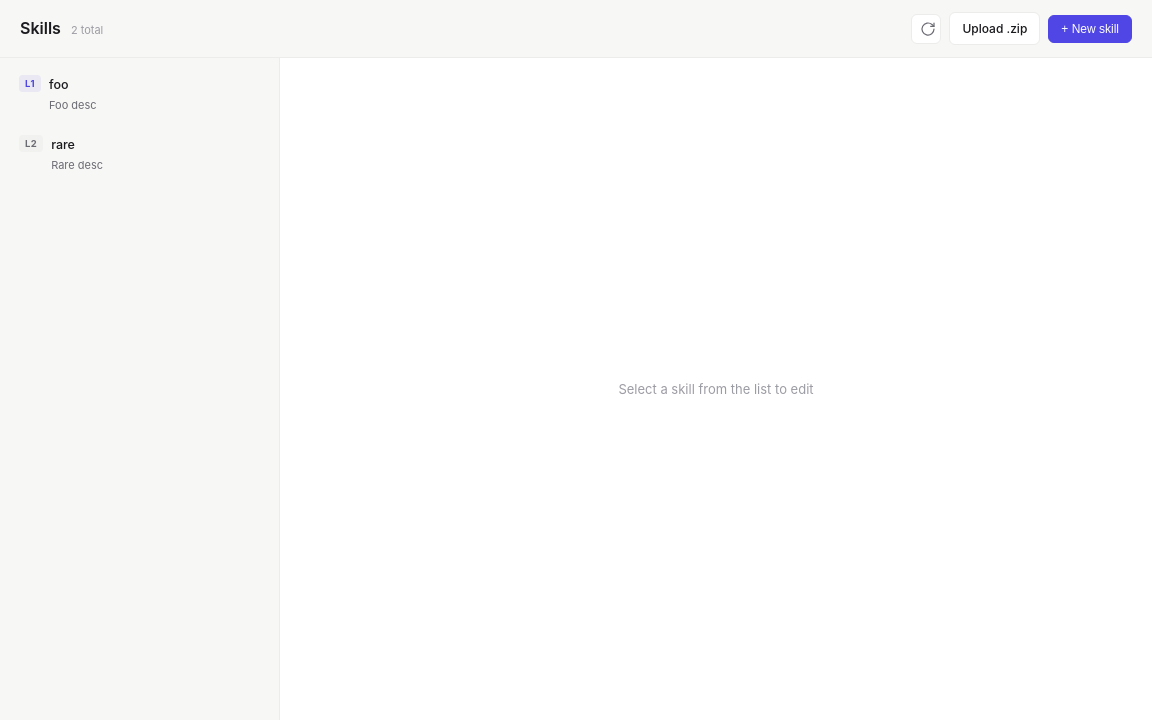
it: SkillsPage › New skill modal: invalid name shows error and disables Create
This screenshot has width=1152, height=720.
Expected: the text "foo" is shown, x1=49 y1=77 x2=68 y2=92
Click the button "+ New skill". click: (1090, 29)
box: x1=1048 y1=15 x2=1132 y2=43
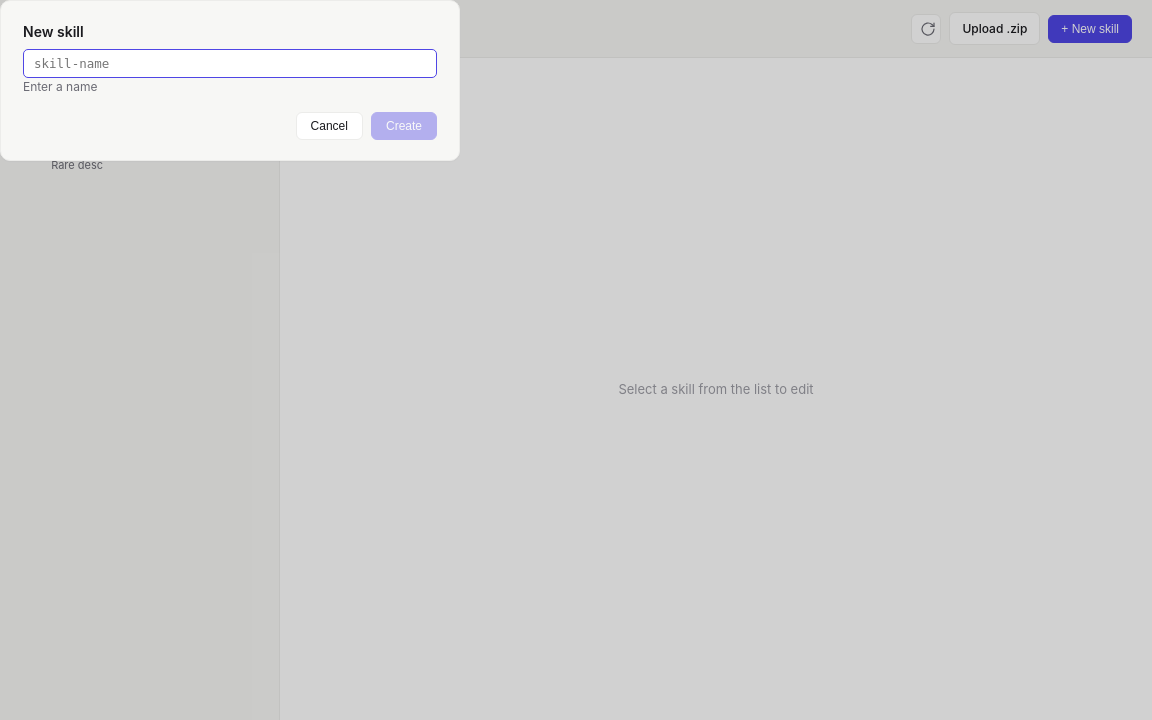
Type "with space!" into the field with placeholder "skill-name". click: (230, 64)
box: x1=23 y1=49 x2=437 y2=78
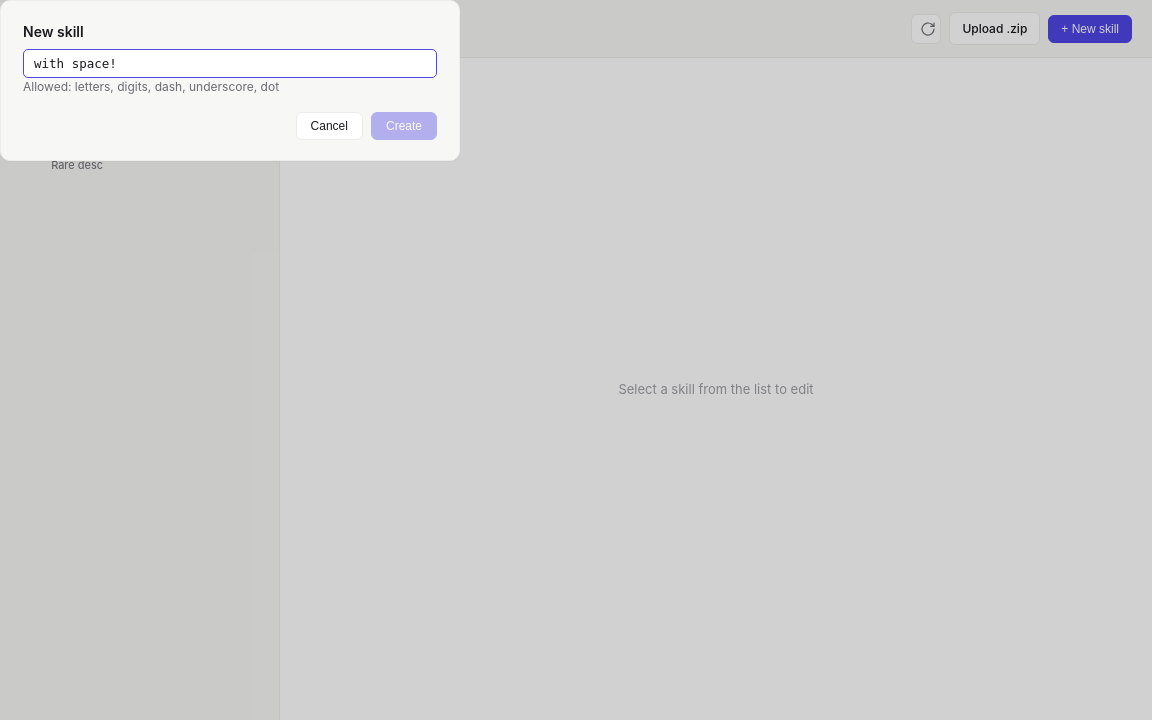
Expected: the button "Create" is disabled, x1=371 y1=112 x2=437 y2=140
Expected: the text "Allowed: letters, digits, dash, underscore, dot" is shown, x1=23 y1=79 x2=279 y2=94
